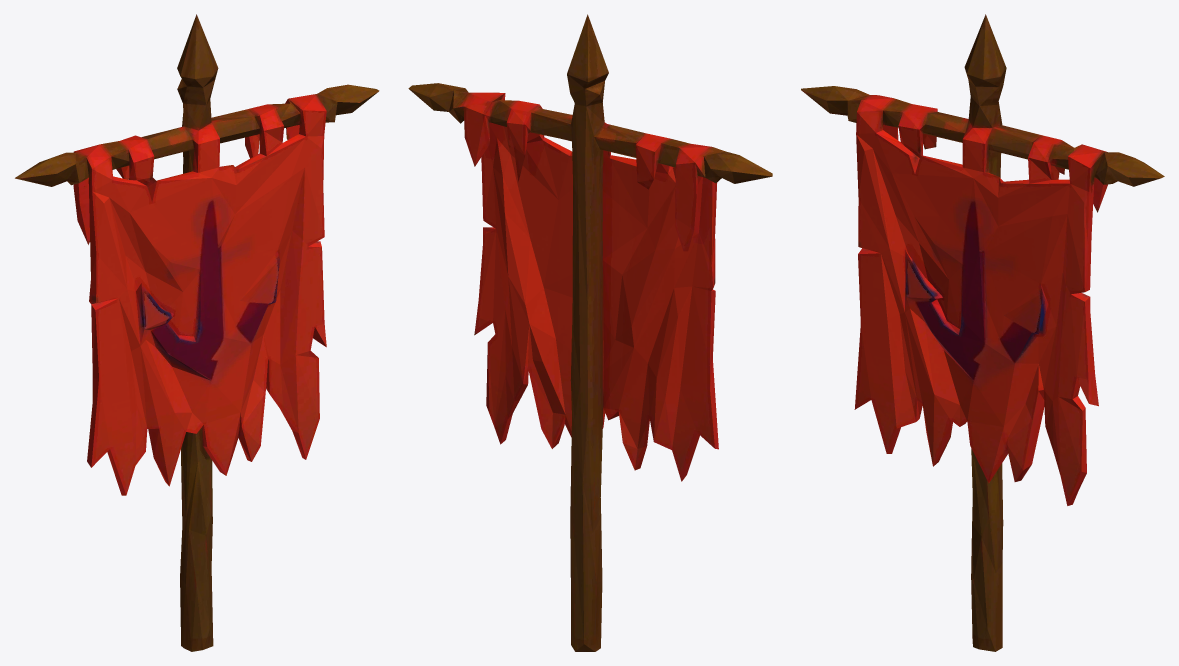
The model's file is tattered_banner_pole.glb.
3 views of the same model, side by side, from view 1: azimuth 30°, elevation 25°; view 2: azimuth 150°, elevation 25°; view 3: azimuth 330°, elevation 25° (orthographic).
Bounding box in the file's own units: 1.19 × 1.99 × 0.1387.
1 material, 1 textured.
